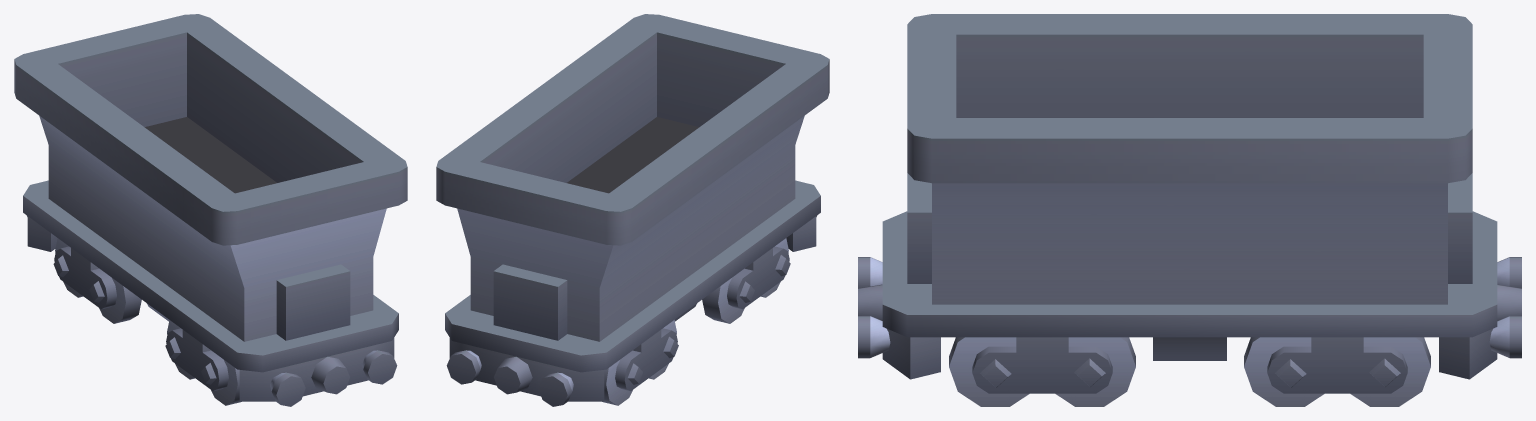
Rendered from k-train-train-carriage-box.glb.
3 views of the same model, side by side, from view 1: azimuth 30°, elevation 25°; view 2: azimuth 150°, elevation 25°; view 3: azimuth 270°, elevation 25° (orthographic). The views are drawn at different scales.
Visible parts, largest first — view 1: train-carriage-box, wheels-back, wheels-front; view 2: train-carriage-box, wheels-front, wheels-back; view 3: train-carriage-box, wheels-front, wheels-back.
Boxes of the visible parts, x1=… form: train-carriage-box: x1=14, y1=14, x2=407, y2=406; wheels-back: x1=53, y1=238, x2=141, y2=323; wheels-front: x1=165, y1=320, x2=241, y2=405; train-carriage-box: x1=436, y1=14, x2=829, y2=406; wheels-front: x1=702, y1=238, x2=790, y2=323; wheels-back: x1=602, y1=320, x2=678, y2=405; train-carriage-box: x1=858, y1=14, x2=1521, y2=379; wheels-front: x1=949, y1=337, x2=1135, y2=406; wheels-back: x1=1244, y1=337, x2=1430, y2=406.
Size of the model in its own units: 1.2 by 1.3 by 2.7.
1 material, 1 textured.
